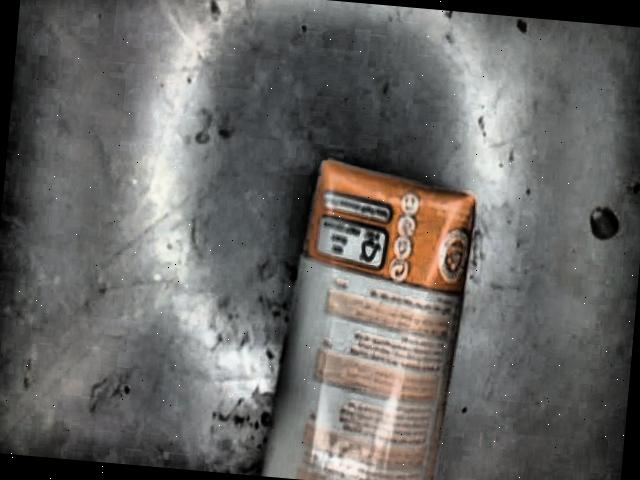Paper: (259, 161, 475, 480)
